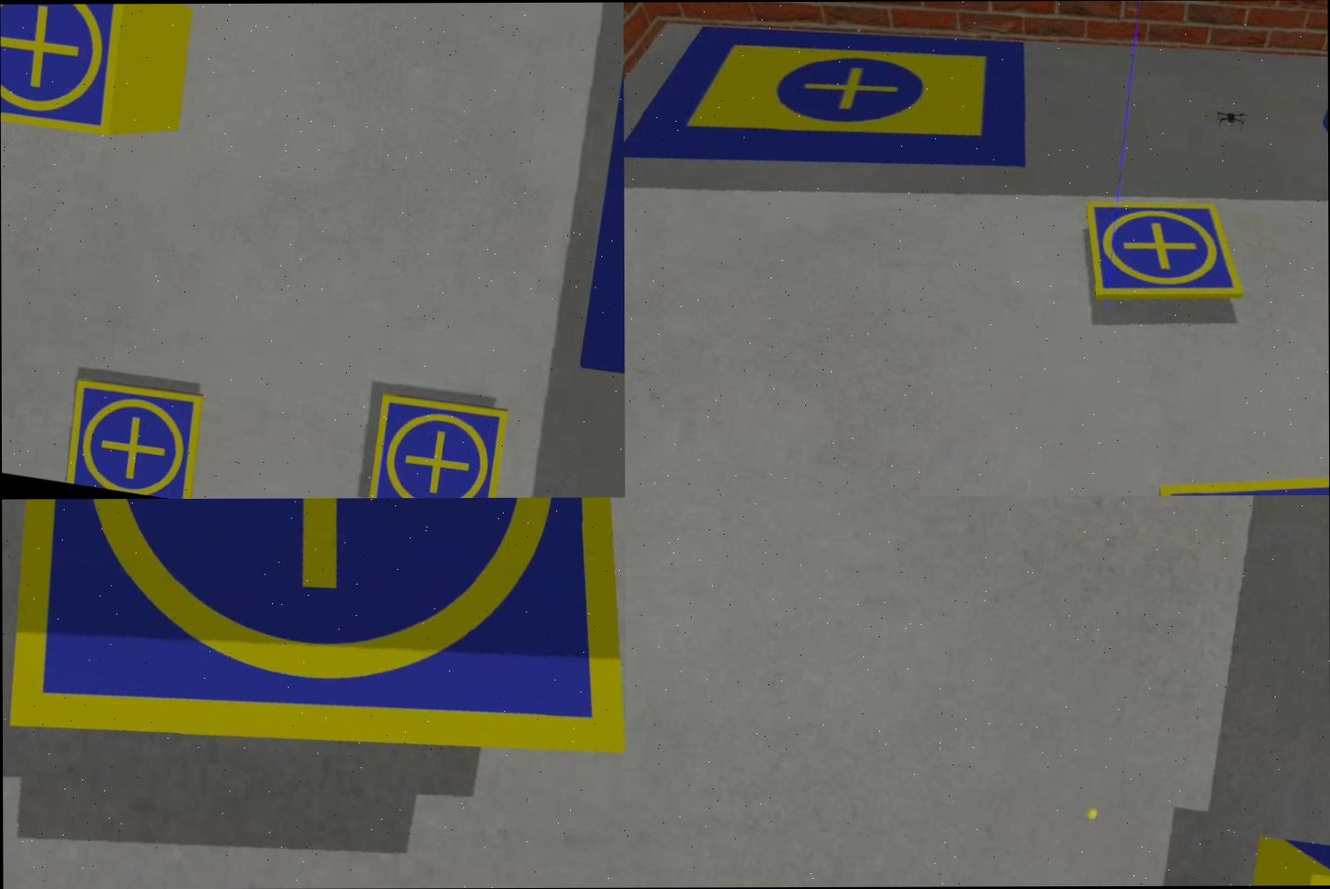large_base: (623, 1, 1048, 221)
small_base: (2, 497, 626, 824), (1070, 183, 1258, 324), (0, 4, 138, 144), (57, 372, 208, 499), (362, 388, 513, 498)
